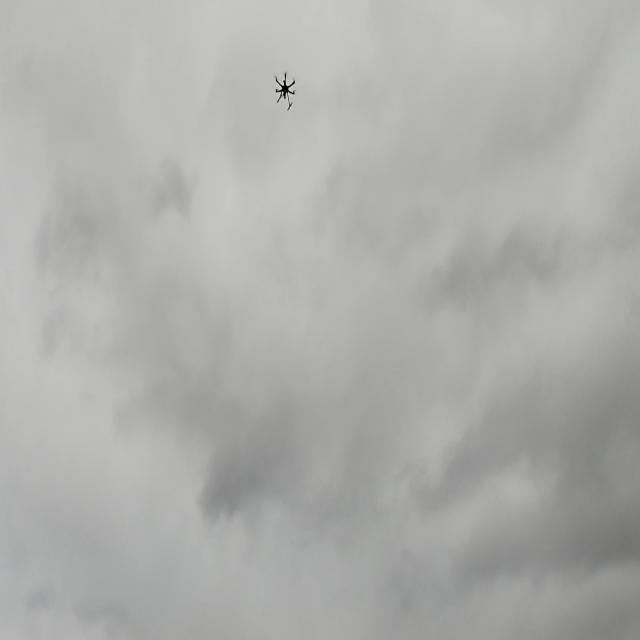drone: (272, 69, 298, 111)
